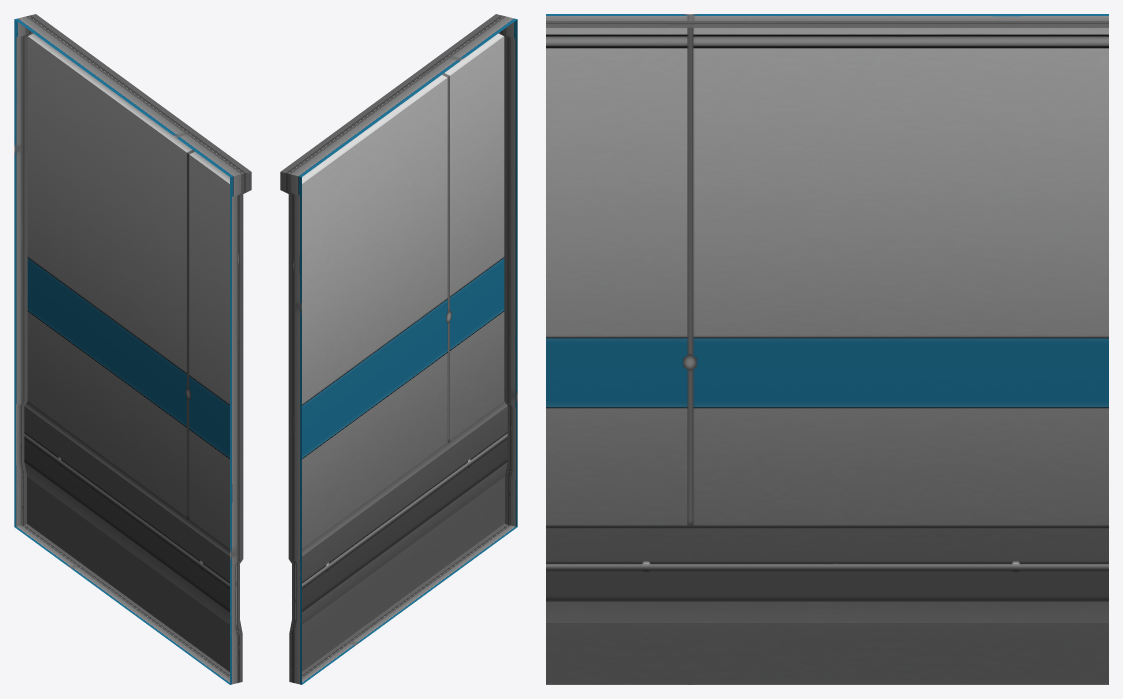
The model's file is VAL_4U_BB.fbx.
3 renders of one model, left to right at view 1: azimuth 30°, elevation 25°; view 2: azimuth 150°, elevation 25°; view 3: azimuth 270°, elevation 25°, orthographic. The views are drawn at different scales.
Visible parts, largest first — view 1: VAL_4U_BB; view 2: VAL_4U_BB; view 3: VAL_4U_BB.
Part boxes in pixels (x1,y1,x2,y2): VAL_4U_BB: (14, 14, 251, 684); VAL_4U_BB: (280, 14, 517, 684); VAL_4U_BB: (546, 14, 1108, 684).
Size of the model in its own units: 0.201 by 4.5 by 3.46.
Materials: 1 (1 with a texture image).
